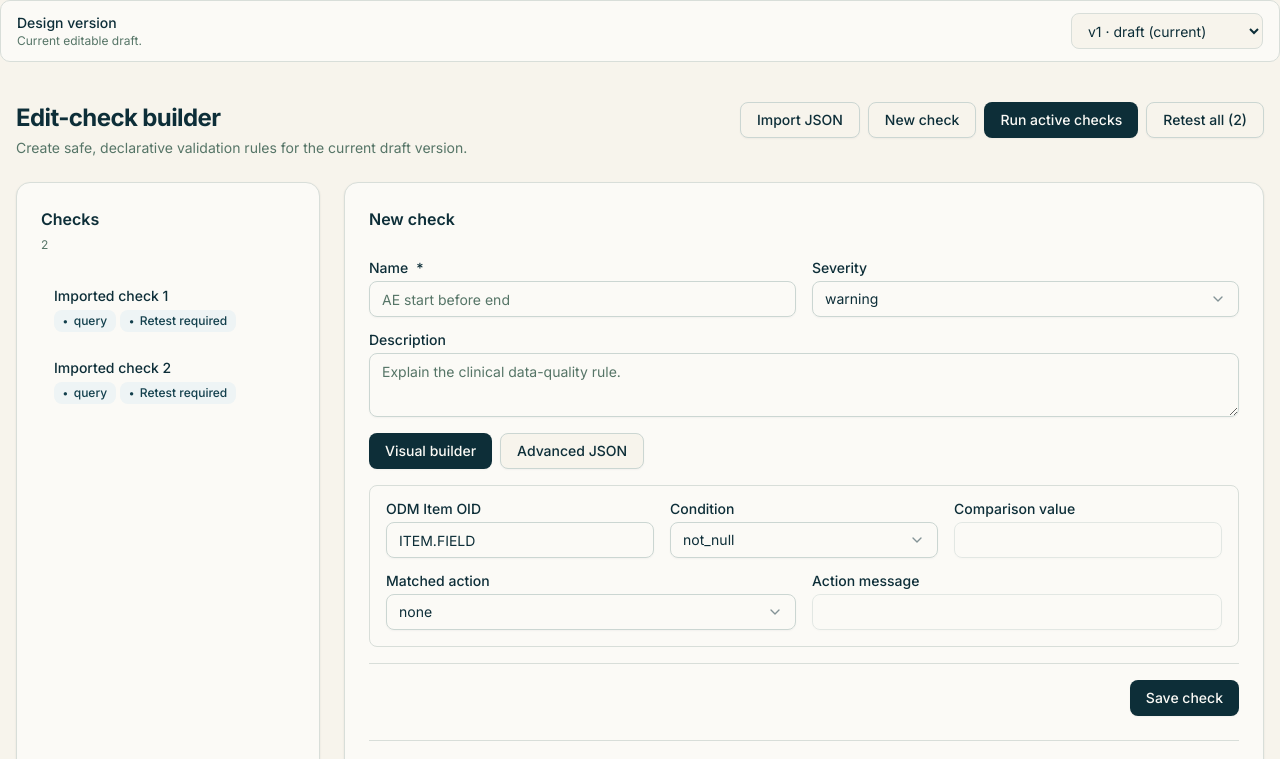
Test case: Phase 2 workflow controls › bulk marks all pending edit checks retested after an explicit attestation
Click the button "Retest all (2)" at (1205, 120), box [1146,102,1264,138]
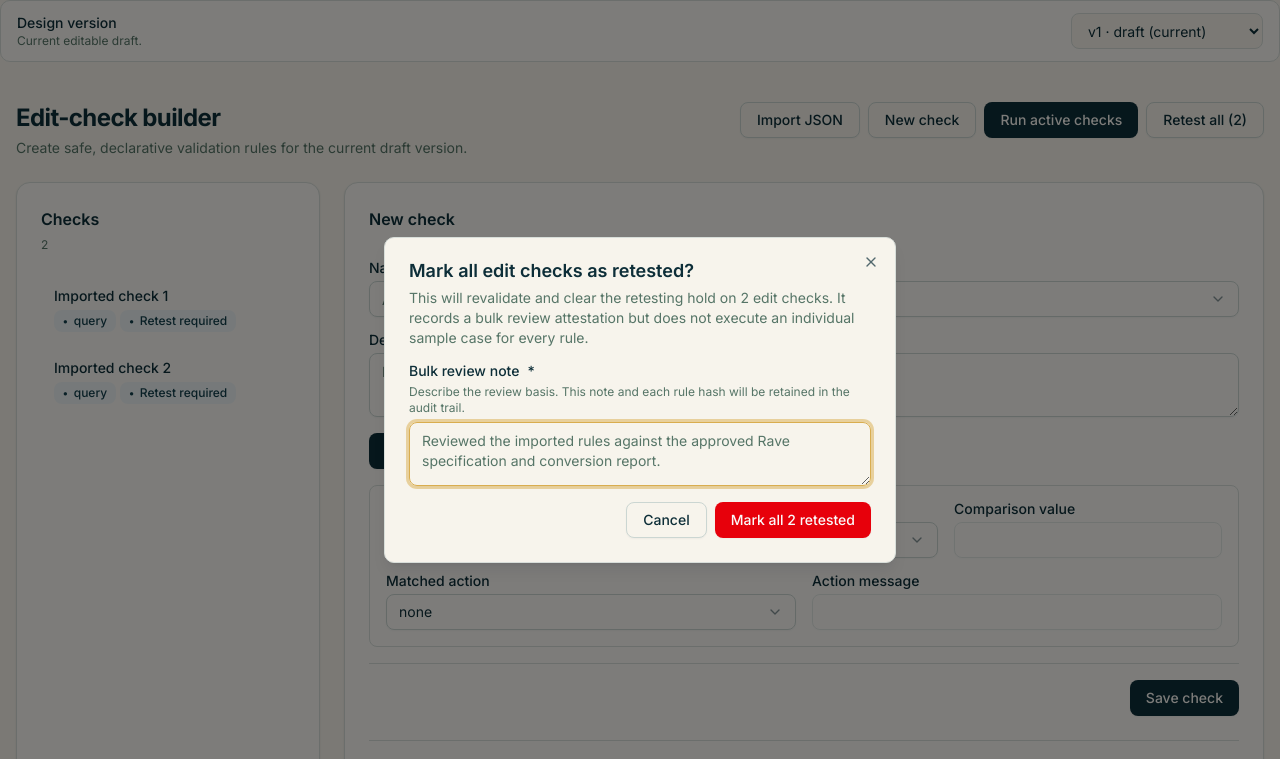
Expected: the dialog "Mark all edit checks as retested?" is shown, [384,237,896,563]
Replace the text in the text box labelled "Bulk review note *" with "Reviewed both imported checks against the approved specification." at (640, 454), box [409,422,871,486]
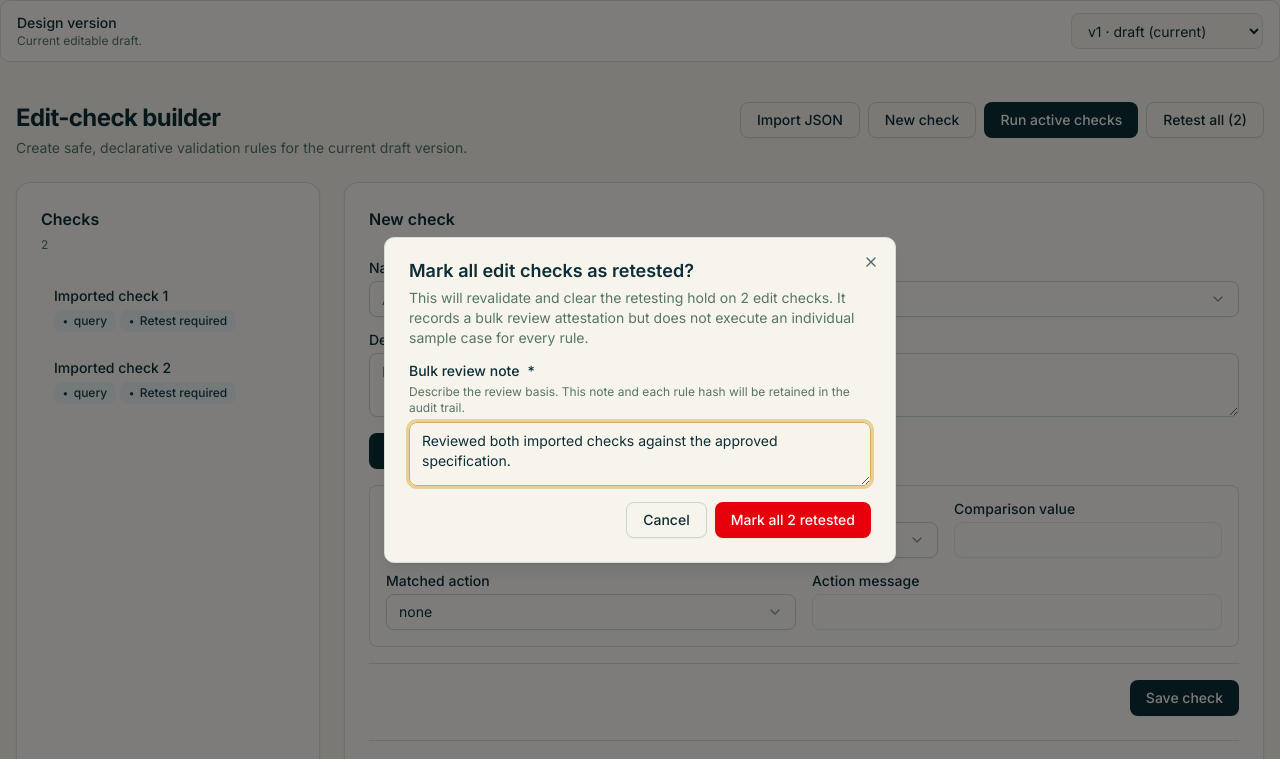
Click the button "Mark all 2 retested" at (793, 520), box [715,502,871,538]
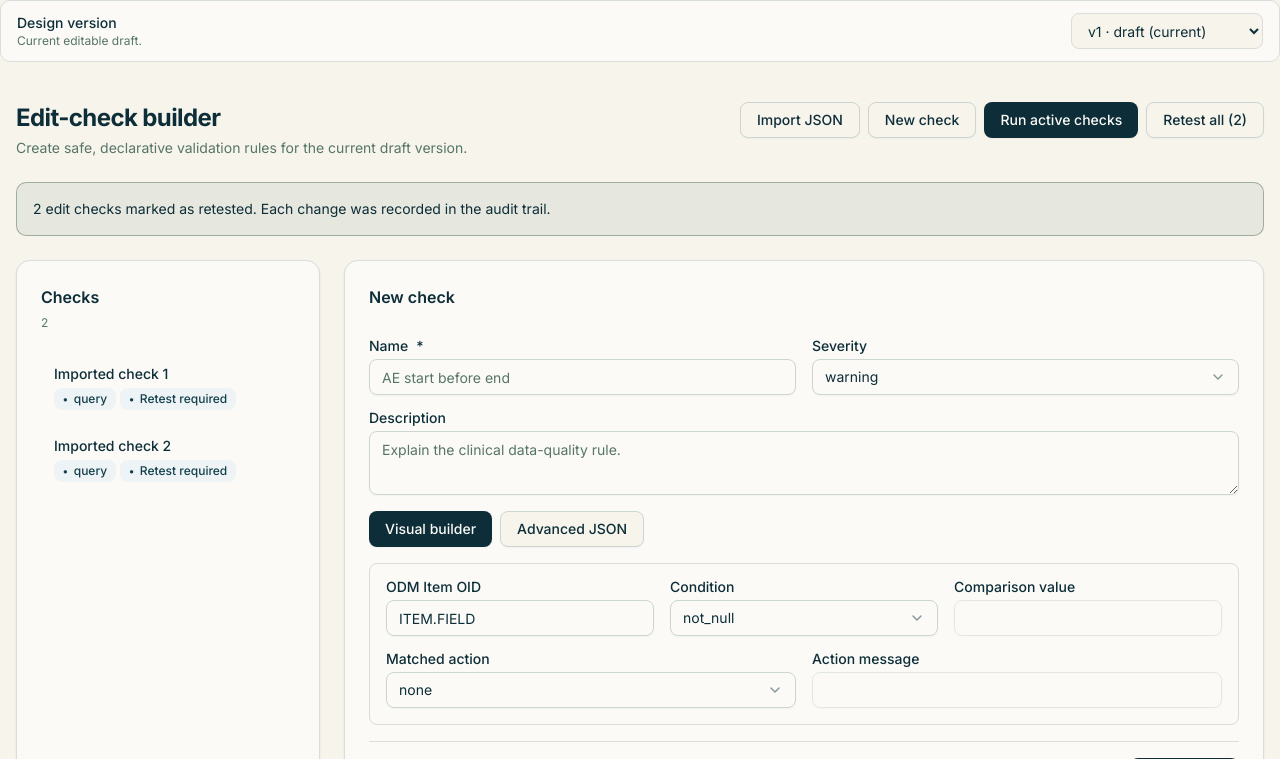
Expected: the text "2 edit checks marked as retested" is shown, [33,200,551,217]
